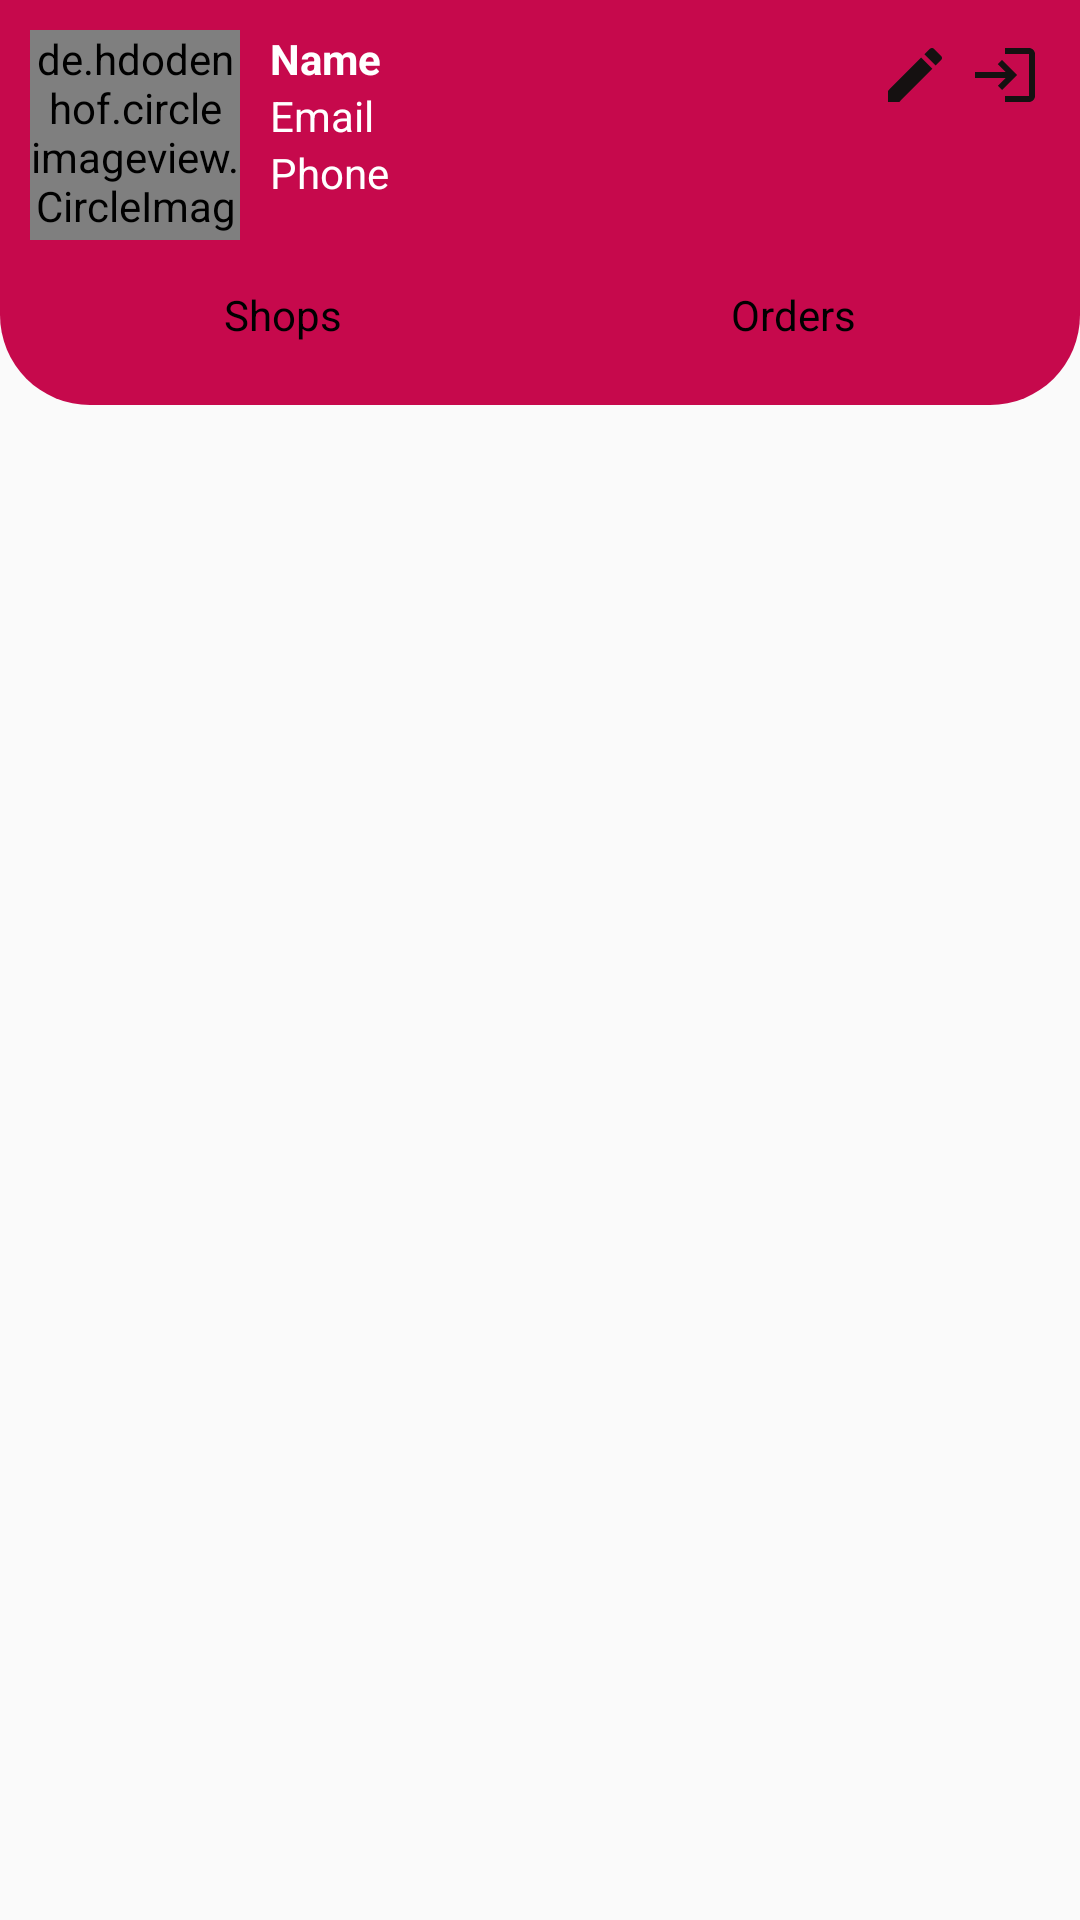

Named icons in this screenshot (1080 x 1920) and their bounding boxes, rect(x1, y1, x2, y2):
edit: rect(888, 48, 942, 102)
